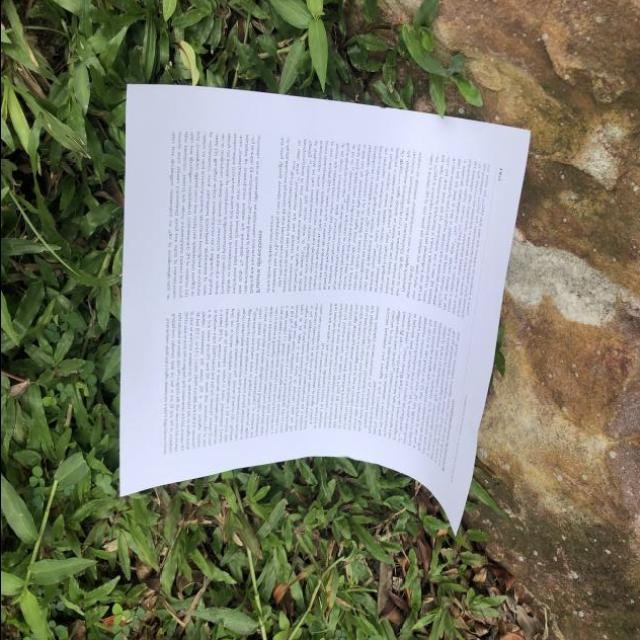kertas: (81, 77, 531, 535)
